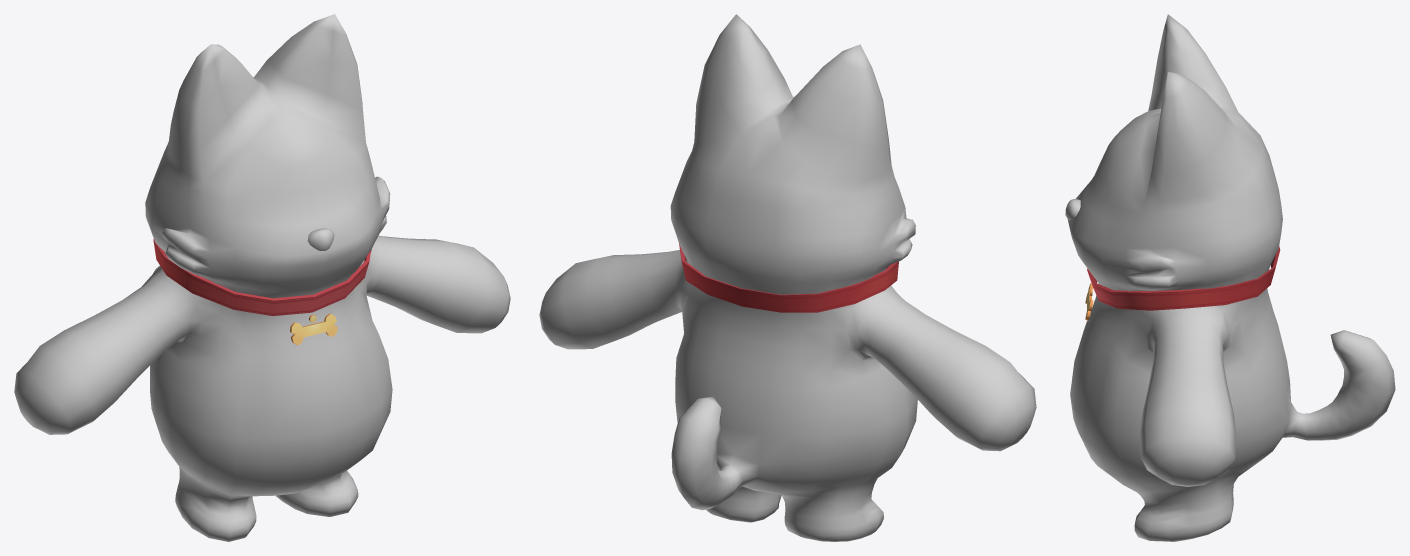
File: dog_Lv1.fbx
3 renders of one model, left to right at view 1: azimuth 30°, elevation 25°; view 2: azimuth 150°, elevation 25°; view 3: azimuth 270°, elevation 25°, orthographic. The views are drawn at different scales.
Visible parts, largest first — view 1: dog, necklace; view 2: dog, necklace; view 3: dog, necklace.
Boxes of the visible parts, bbox=[...] form: dog: bbox=[14, 14, 510, 541]; necklace: bbox=[153, 239, 371, 345]; dog: bbox=[539, 14, 1036, 541]; necklace: bbox=[679, 244, 898, 312]; dog: bbox=[1065, 14, 1395, 541]; necklace: bbox=[1085, 246, 1280, 320].
Bounding box in the file's own units: 162 × 159 × 102.
